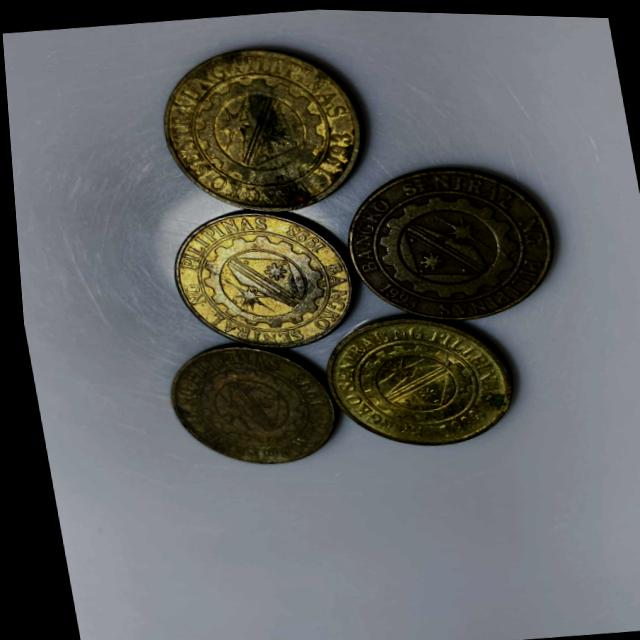25Cent_Old_Back: (148, 33, 370, 218), (331, 158, 558, 324), (159, 202, 353, 353), (317, 304, 506, 450), (159, 338, 326, 468)
